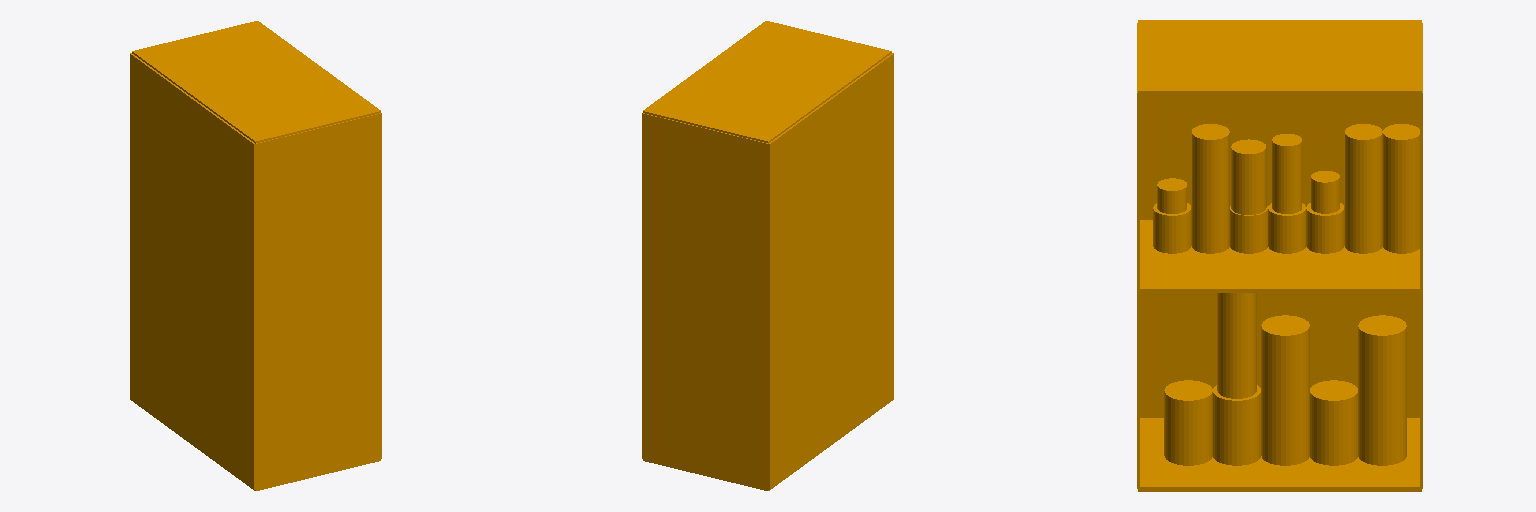
URDF robot description (syn_can_cabinet_packed_uniform_22):
<?xml version="1.0" ?>
<robot name="syn_can_cabinet_packed_uniform_22">
    <link concave="yes" name="base_link">
        <inertial>
            <origin rpy="0 0 0" xyz="0 0 0"/>
            <mass value="0.0"/>
            <inertia ixx="1e-08" ixy="0" ixz="0" iyy="1e-08" iyz="0" izz="1e-08"/>
        </inertial>
        <visual>
            <origin xyz="0 0 0" rpy="0 0 0" />
            <geometry>
                <mesh filename="syn_can_cabinet_packed_uniform_22.obj" scale="1.000000 1.000000 1.000000"/>
            </geometry>         
        </visual>

        <collision concave="yes">
            <origin xyz="0 0 0" rpy="0 0 0"/>
            <geometry>
                <mesh filename="syn_can_cabinet_packed_uniform_22.obj" scale="1.000000 1.000000 1.000000"/>
            </geometry>
        </collision>
    </link>
</robot>
    

--- Facts derived from the render (not from the file) ---
3 views of the same robot in one strip: view 1: azimuth 30°, elevation 25°; view 2: azimuth 150°, elevation 25°; view 3: azimuth 270°, elevation 25° (orthographic).
Model syn_can_cabinet_packed_uniform_22 with 1 links and 0 joints (none), rooted at base_link, posed all joints at 0.
Visible links, largest first — view 1: base_link; view 2: base_link; view 3: base_link.
Boxes of the visible links, bbox=[...] form: base_link: bbox=[130, 21, 381, 490]; base_link: bbox=[642, 21, 893, 490]; base_link: bbox=[1137, 20, 1422, 491].
Size in the robot's own frame: 0.2173 by 0.367 by 0.5688 metres.
1 mesh visuals loaded from 1 distinct referenced files (1 OBJ).
